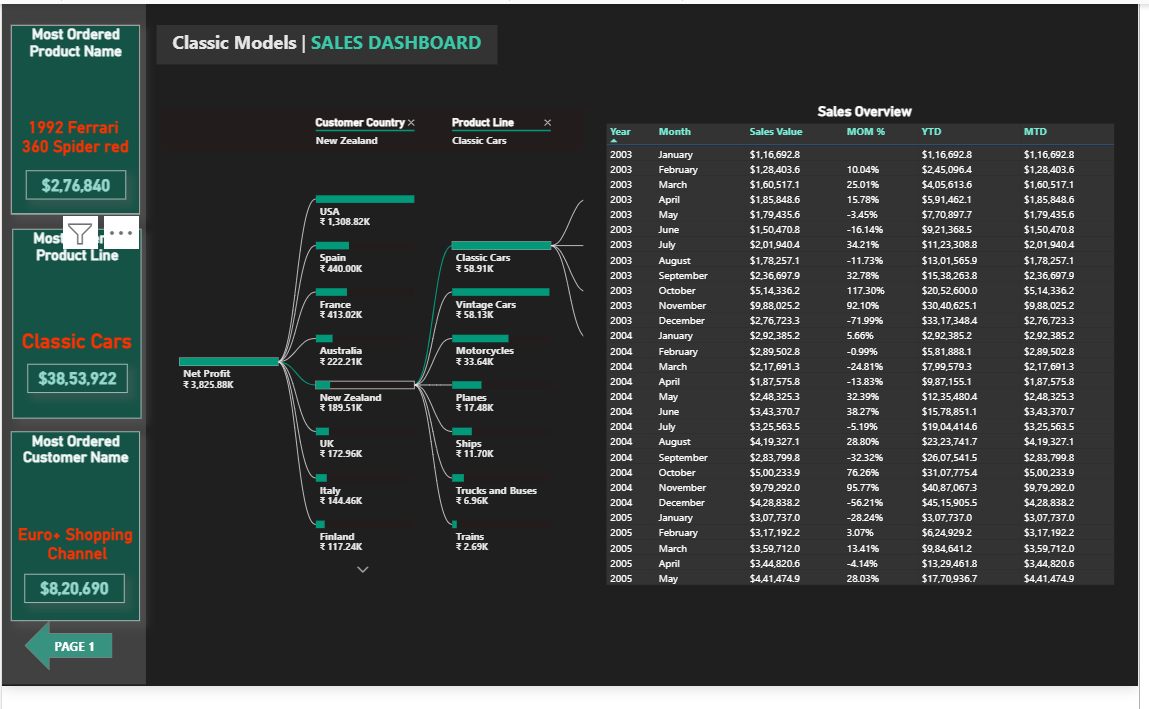

Layout of this report page (visuals, bound fields, positions):
{"tool":"powerbi","page":{"name":"Sales Overview - Page 2","canvas":[1500,900],"ordinal":1},"visuals":[{"type":"shape","box":[0,0,190,898],"z":0},{"type":"decompositionTreeVisual","fields":{"Analyze":["classicmodels sales_data_for_power_bi.Net Profit"],"ExplainBy":["classicmodels sales_data_for_power_bi.cust_country","classicmodels sales_data_for_power_bi.productLine","classicmodels sales_data_for_power_bi.customerName"]},"box":[204,130,568,660],"z":1000},{"type":"textbox","box":[204,28,450,52],"z":2000},{"type":"tableEx","title":"Sales Overview","fields":{"Values":["Date.Date.Variation.Date Hierarchy.Year","Date.Date.Variation.Date Hierarchy.Month","Sum(classicmodels sales_data_for_power_bi.sales_value)","classicmodels sales_data_for_power_bi.MOM %","classicmodels sales_data_for_power_bi.YTD","classicmodels sales_data_for_power_bi.MTD"]},"box":[792,130,694,660],"z":3000},{"type":"shape","box":[30,814,116,66],"z":4000},{"type":"card","title":"Most Ordered Customer Name","fields":{"Values":["Min(classicmodels sales_data_for_power_bi.customerName)"]},"box":[12,564,170,250],"z":5000},{"type":"card","title":"Most Ordered Product Line","fields":{"Values":["Min(classicmodels sales_data_for_power_bi.productLine)"]},"box":[14,296,170,250],"z":6000},{"type":"card","title":"Most Ordered Product Name","fields":{"Values":["Min(classicmodels sales_data_for_power_bi.productName)"]},"box":[12,28,170,250],"z":7000},{"type":"card","title":"Most Ordered Product Name","fields":{"Values":["Sum(classicmodels sales_data_for_power_bi.sales_value)"]},"box":[32,220,132,38],"z":8000},{"type":"card","title":"Most Ordered Product Name","fields":{"Values":["Sum(classicmodels sales_data_for_power_bi.sales_value)"]},"box":[34,476,132,38],"z":9000},{"type":"card","title":"Most Ordered Product Name","fields":{"Values":["Sum(classicmodels sales_data_for_power_bi.sales_value)"]},"box":[30,752,132,38],"z":10000}]}

Visuals, with their boxes in screenshot pixels (x1, y1, x2, y2), scaled from the page's 1500x900 canvas onto the 1149x709 screenshot:
shape: {"left": 0, "top": 0, "right": 146, "bottom": 707}
decompositionTreeVisual - classicmodels sales_data_for_power_bi.Net Profit x classicmodels sales_data_for_power_bi.cust_country: {"left": 156, "top": 102, "right": 591, "bottom": 622}
textbox: {"left": 156, "top": 22, "right": 501, "bottom": 63}
"Sales Overview" tableEx: {"left": 607, "top": 102, "right": 1138, "bottom": 622}
shape: {"left": 23, "top": 641, "right": 112, "bottom": 693}
"Most Ordered Customer Name" card: {"left": 9, "top": 444, "right": 139, "bottom": 641}
"Most Ordered Product Line" card: {"left": 11, "top": 233, "right": 141, "bottom": 430}
"Most Ordered Product Name" card: {"left": 9, "top": 22, "right": 139, "bottom": 219}
"Most Ordered Product Name" card: {"left": 25, "top": 173, "right": 126, "bottom": 203}
"Most Ordered Product Name" card: {"left": 26, "top": 375, "right": 127, "bottom": 405}
"Most Ordered Product Name" card: {"left": 23, "top": 592, "right": 124, "bottom": 622}
